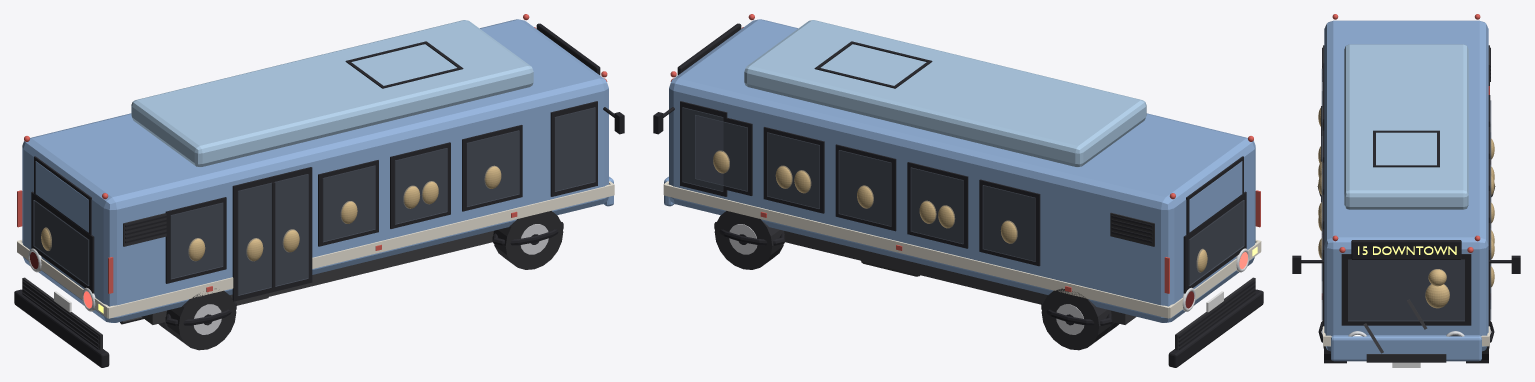
Rendered from 39-city-bus.glb.
The picture shows the model from 3 angles, left to right: view 1: azimuth 30°, elevation 25°; view 2: azimuth 150°, elevation 25°; view 3: azimuth 270°, elevation 25°; orthographic projection. The views are drawn at different scales.
Parts seen in each view (by area): view 1: Body, RoofPod, Door_Trim, WinR_rear_Trim, WinR0_Trim, WinR2_Trim, FrontGlassR_Trim, WinR1_Trim, Band_Ra, RearWin_Trim, Door_Glass1, Door_Glass0 (+20 smaller); view 2: Body, RoofPod, Band_L, WinL4_Trim, WinL2_Trim, WinL0_Trim, WinL1_Trim, WinL3_Trim, RearWin_Trim, UnderSlab, WinL4_Glass, WinL2_Glass (+17 smaller); view 3: Body, RoofPod, Windshield_Trim, Windshield_Glass, BumperF, SignBox, IntakeF, Driver_Torso, SignText, FrontGlassR_Trim, FrontGlassL_Trim, Driver_Head (+1 smaller).
Part boxes in pixels (left/top/right/bottom): Body: left=22, top=19, right=608, bottom=322; RoofPod: left=131, top=20, right=533, bottom=167; Door_Trim: left=232, top=167, right=312, bottom=301; WinR_rear_Trim: left=165, top=197, right=226, bottom=283; WinR0_Trim: left=462, top=125, right=522, bottom=211; WinR2_Trim: left=318, top=160, right=378, bottom=246; FrontGlassR_Trim: left=550, top=101, right=597, bottom=196; WinR1_Trim: left=390, top=142, right=450, bottom=228; Band_Ra: left=312, top=184, right=614, bottom=268; RearWin_Trim: left=31, top=191, right=94, bottom=293; Door_Glass1: left=237, top=183, right=271, bottom=295; Door_Glass0: left=274, top=174, right=308, bottom=286; Body: left=669, top=19, right=1255, bottom=322; RoofPod: left=744, top=20, right=1146, bottom=167; Band_L: left=664, top=184, right=1169, bottom=318; WinL4_Trim: left=979, top=179, right=1040, bottom=266; WinL2_Trim: left=835, top=144, right=896, bottom=231; WinL0_Trim: left=691, top=110, right=752, bottom=195; WinL1_Trim: left=763, top=127, right=824, bottom=213; WinL3_Trim: left=907, top=162, right=968, bottom=248; RearWin_Trim: left=1183, top=191, right=1246, bottom=293; UnderSlab: left=784, top=231, right=1136, bottom=324; WinL4_Glass: left=982, top=185, right=1035, bottom=261; WinL2_Glass: left=838, top=150, right=891, bottom=226; Body: left=1324, top=20, right=1488, bottom=351; RoofPod: left=1344, top=44, right=1468, bottom=209; Windshield_Trim: left=1341, top=254, right=1471, bottom=325; Windshield_Glass: left=1348, top=259, right=1464, bottom=321; BumperF: left=1331, top=335, right=1481, bottom=361; SignBox: left=1351, top=240, right=1461, bottom=259; IntakeF: left=1366, top=354, right=1446, bottom=362; Driver_Torso: left=1425, top=284, right=1449, bottom=308; SignText: left=1358, top=246, right=1456, bottom=254; FrontGlassR_Trim: left=1322, top=229, right=1324, bottom=326; FrontGlassL_Trim: left=1488, top=229, right=1490, bottom=326; Driver_Head: left=1428, top=269, right=1446, bottom=286.
Bounding box in the file's own units: 6.15 × 2.17 × 2.57.
